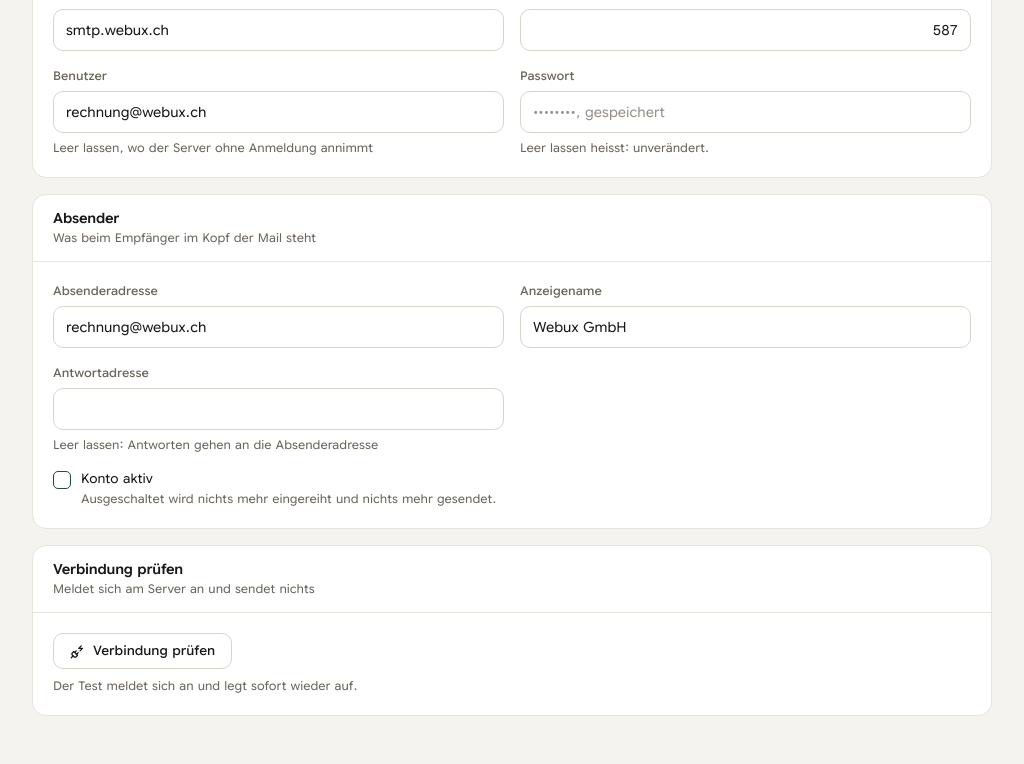
Test case: OutboxAccountPage › outboxAccountPageShowsASuccessfulConnectionTestTest
(page scrolled)
Click the button "Verbindung prüfen" at (143, 651), box 53,633 -> 232,669
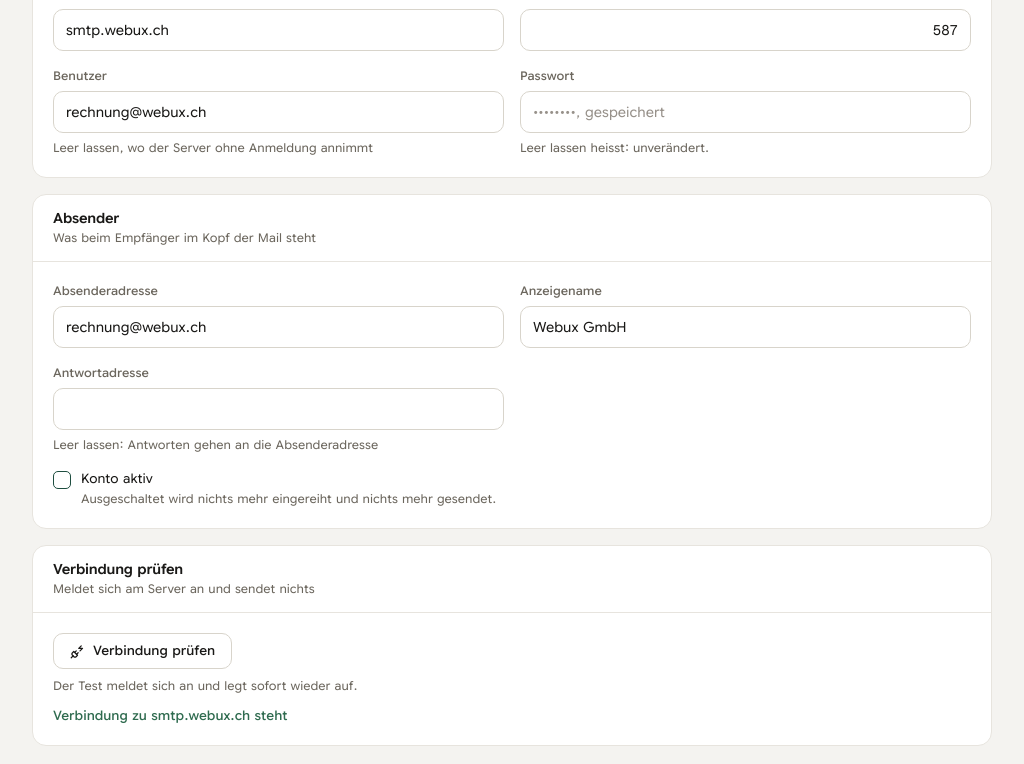
Now the text "Verbindung zu smtp.webux.ch steht" is shown, box 53,707 -> 288,724
